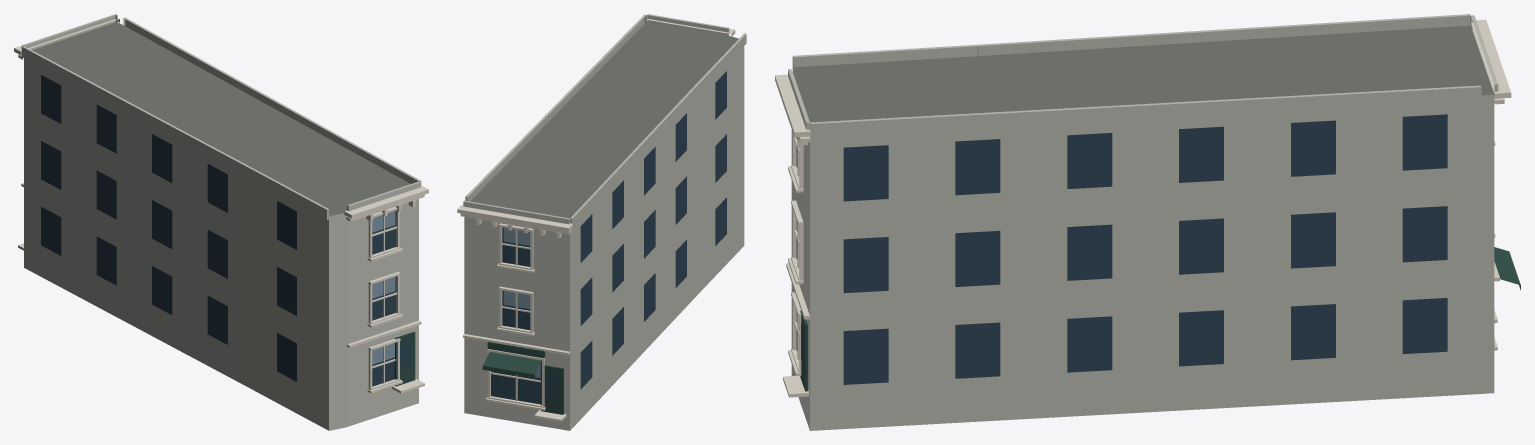
3 renders of one model, left to right at view 1: azimuth 30°, elevation 25°; view 2: azimuth 150°, elevation 25°; view 3: azimuth 270°, elevation 25°, orthographic. The views are drawn at different scales.
Parts seen in each view (by area): view 1: Footprint 0 / surface 2, Footprint 0 / surface 1, Inset glazing, Facade bay volumes, Cornices and window frames, Sky reflection panels, Storefronts and doors; view 2: Footprint 0 / surface 2, Footprint 0 / surface 1, Inset glazing, Facade bay volumes, Cornices and window frames, Storefronts and doors, Sky reflection panels; view 3: Footprint 0 / surface 2, Inset glazing, Footprint 0 / surface 1, Facade bay volumes, Cornices and window frames, Storefronts and doors.
Part boxes in pixels (x1=…): Footprint 0 / surface 2: x1=24, y1=58, x2=418, y2=430; Footprint 0 / surface 1: x1=32, y1=22, x2=410, y2=216; Inset glazing: x1=41, y1=75, x2=411, y2=386; Facade bay volumes: x1=21, y1=14, x2=421, y2=219; Cornices and window frames: x1=14, y1=18, x2=428, y2=393; Sky reflection panels: x1=372, y1=211, x2=395, y2=364; Storefronts and doors: x1=394, y1=331, x2=415, y2=386; Footprint 0 / surface 2: x1=464, y1=46, x2=744, y2=430; Footprint 0 / surface 1: x1=470, y1=22, x2=738, y2=218; Inset glazing: x1=491, y1=71, x2=726, y2=404; Facade bay volumes: x1=463, y1=14, x2=746, y2=228; Cornices and window frames: x1=457, y1=19, x2=735, y2=421; Storefronts and doors: x1=482, y1=342, x2=563, y2=414; Sky reflection panels: x1=503, y1=227, x2=540, y2=378; Footprint 0 / surface 2: x1=791, y1=94, x2=1494, y2=430; Inset glazing: x1=796, y1=114, x2=1447, y2=384; Footprint 0 / surface 1: x1=792, y1=25, x2=1494, y2=122; Facade bay volumes: x1=788, y1=14, x2=1498, y2=138; Cornices and window frames: x1=775, y1=19, x2=1511, y2=397; Storefronts and doors: x1=800, y1=247, x2=1520, y2=391.
Size of the model in its own units: 8.53 by 10.88 by 23.85.
